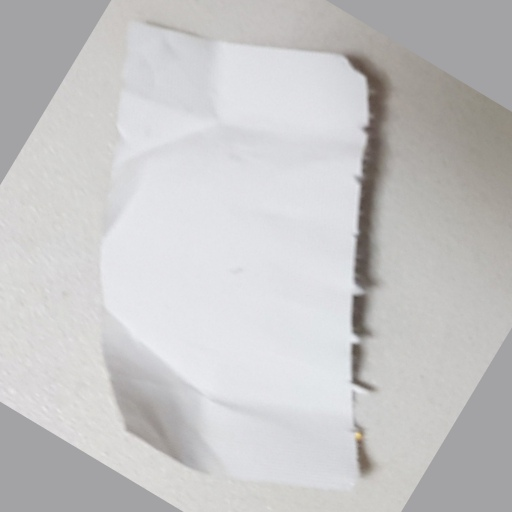Paper_3: (81, 10, 386, 506)
